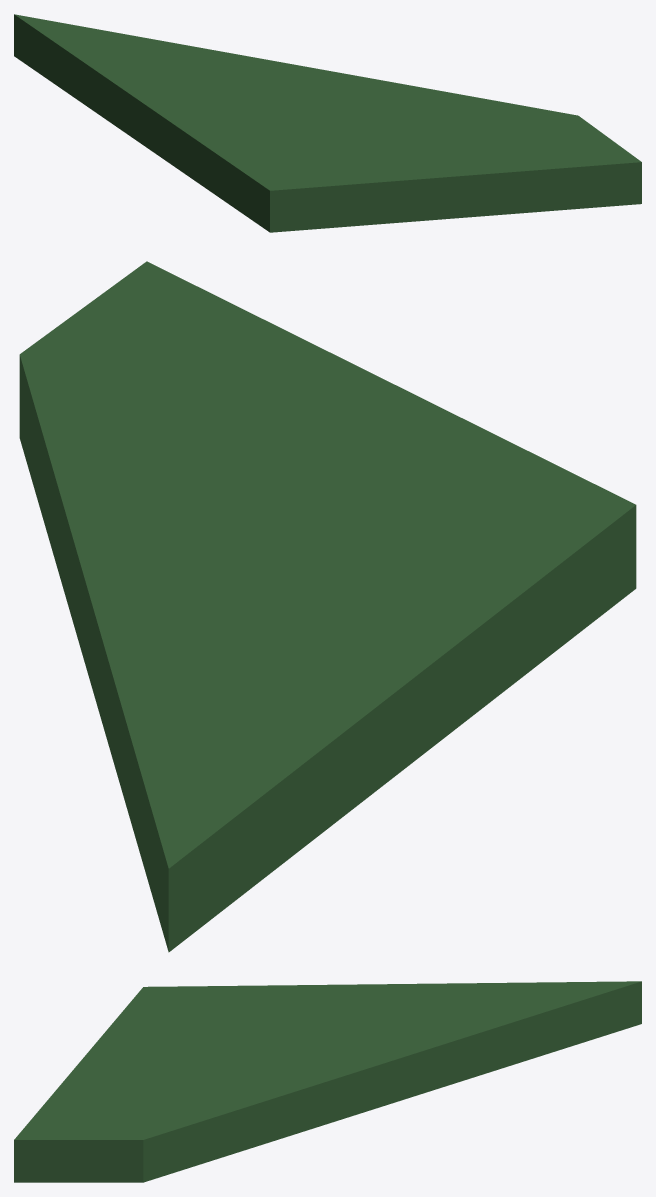
File: x_proval_00_116_1_rmstrd.fbx
3 views of the same model, one above another, from view 1: azimuth 30°, elevation 25°; view 2: azimuth 150°, elevation 25°; view 3: azimuth 270°, elevation 25° (orthographic). The views are drawn at different scales.
Parts seen in each view (by area): view 1: x_proval_00_116_1_rmstrd1; view 2: x_proval_00_116_1_rmstrd1; view 3: x_proval_00_116_1_rmstrd1.
Part boxes in pixels (x1,y1,x2,y2): x_proval_00_116_1_rmstrd1: (14,14,641,232); x_proval_00_116_1_rmstrd1: (19,261,636,952); x_proval_00_116_1_rmstrd1: (14,981,641,1182).
Bounding box in the file's own units: 1.6 × 0.2 × 2.67.
